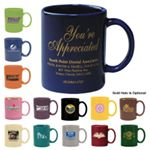cups: (37, 2, 135, 95), (3, 7, 34, 35), (2, 35, 33, 63), (3, 63, 34, 91), (3, 95, 32, 122), (120, 123, 149, 150), (88, 95, 118, 121), (3, 122, 31, 149), (60, 97, 89, 123), (60, 123, 89, 149), (88, 122, 117, 148), (119, 95, 148, 121), (31, 96, 60, 121), (32, 124, 59, 148)
